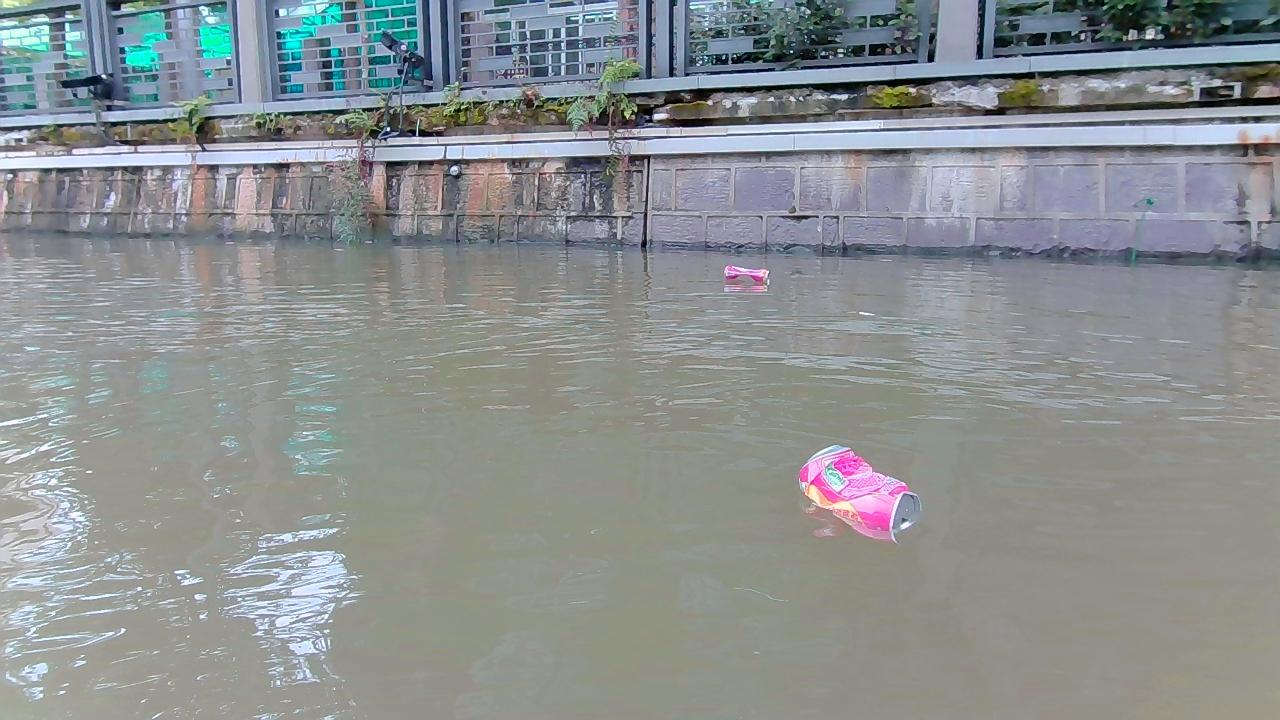Metal: (795, 442, 923, 531), (723, 264, 771, 283)
